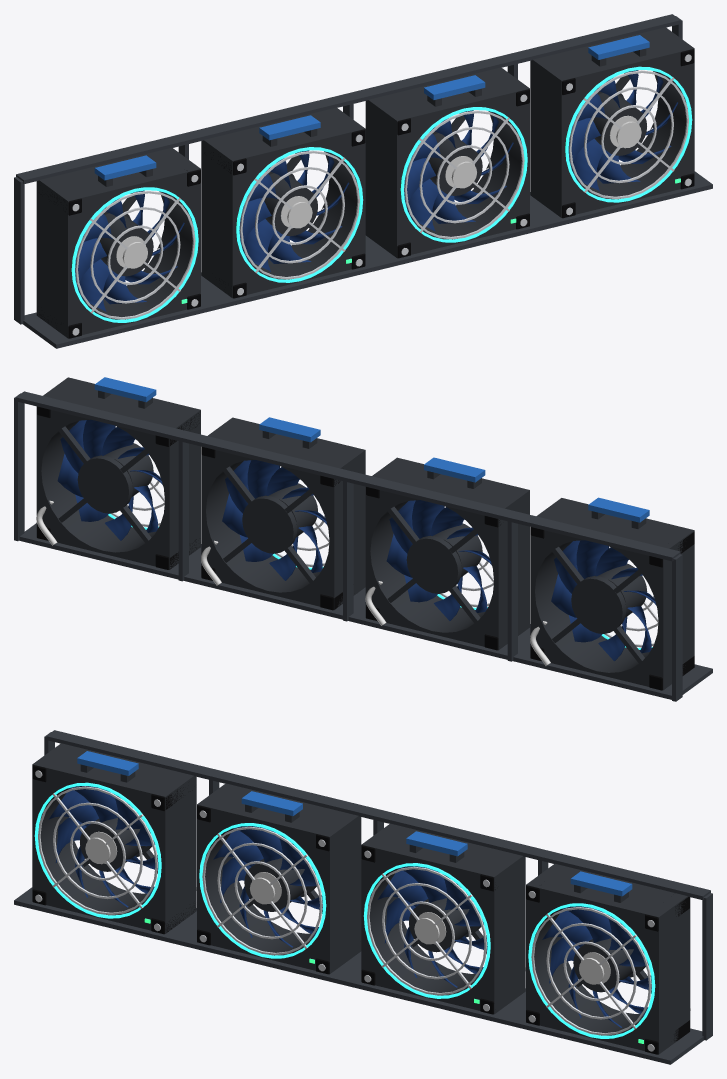
The model's file is hwm_cool_tower_120.glb.
3 views of the same model, one above another, from view 1: azimuth 30°, elevation 25°; view 2: azimuth 150°, elevation 25°; view 3: azimuth 330°, elevation 25° (orthographic).
Parts seen in each view (by area): view 1: Body, Rotor_Z_0, Rotor_Z_2, Rotor_Z_3, Rotor_Z_1; view 2: Body, Rotor_Z_0, Rotor_Z_2, Rotor_Z_3, Rotor_Z_1; view 3: Body, Rotor_Z_3, Rotor_Z_1, Rotor_Z_0, Rotor_Z_2.
Boxes of the visible parts, x1=… form: Body: x1=14, y1=14, x2=712, y2=348; Rotor_Z_0: x1=75, y1=190, x2=184, y2=311; Rotor_Z_2: x1=404, y1=110, x2=513, y2=231; Rotor_Z_3: x1=568, y1=70, x2=677, y2=191; Rotor_Z_1: x1=239, y1=150, x2=349, y2=271; Body: x1=14, y1=377, x2=712, y2=701; Rotor_Z_0: x1=551, y1=540, x2=656, y2=661; Rotor_Z_2: x1=222, y1=460, x2=327, y2=580; Rotor_Z_3: x1=57, y1=419, x2=162, y2=540; Rotor_Z_1: x1=386, y1=500, x2=491, y2=620; Body: x1=14, y1=730, x2=712, y2=1064; Rotor_Z_3: x1=542, y1=906, x2=651, y2=1027; Rotor_Z_1: x1=213, y1=826, x2=322, y2=947; Rotor_Z_0: x1=48, y1=786, x2=158, y2=907; Rotor_Z_2: x1=377, y1=866, x2=487, y2=987.
Size of the model in its own units: 0.4628 by 0.1033 by 0.049.
